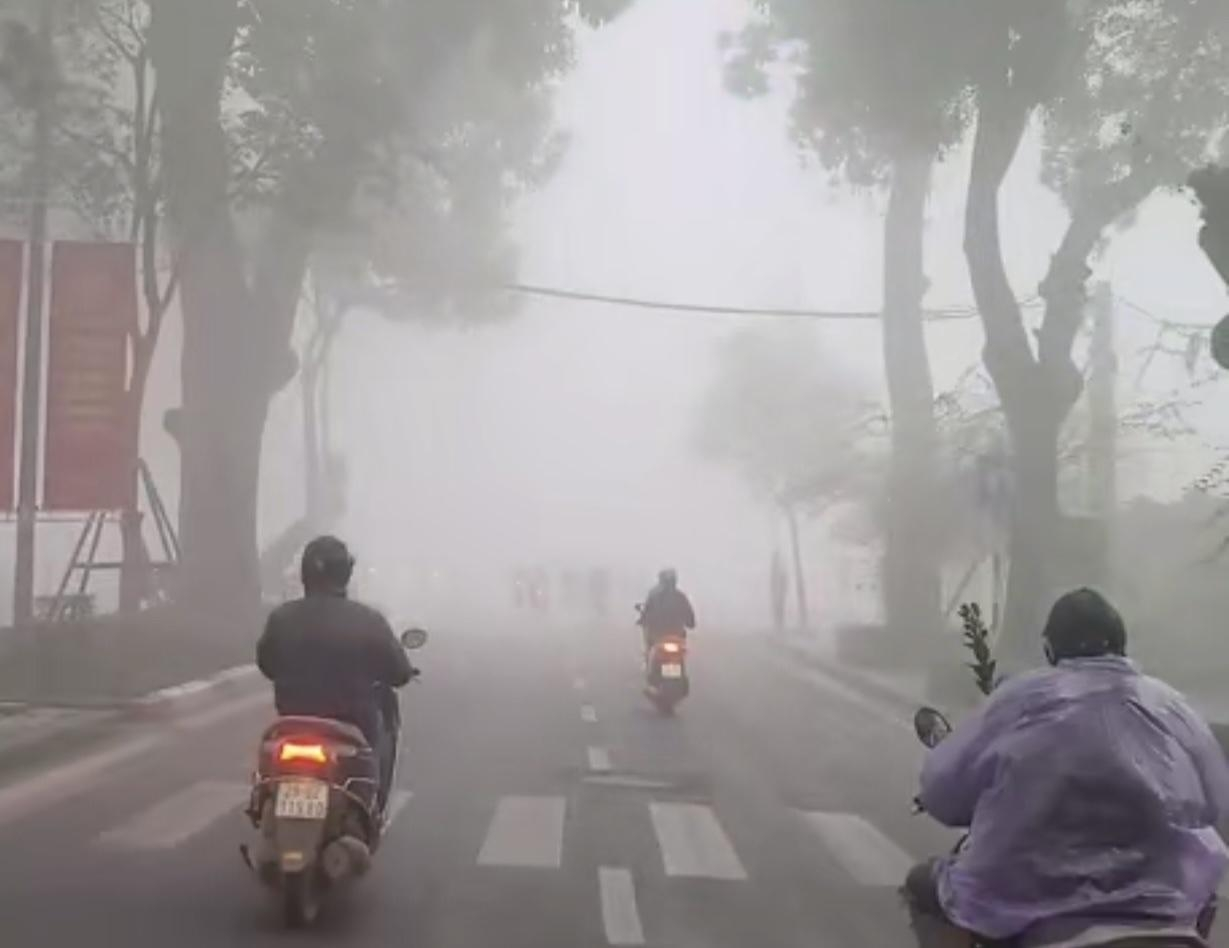motorcycle: (244, 704, 399, 931), (642, 639, 692, 708)
